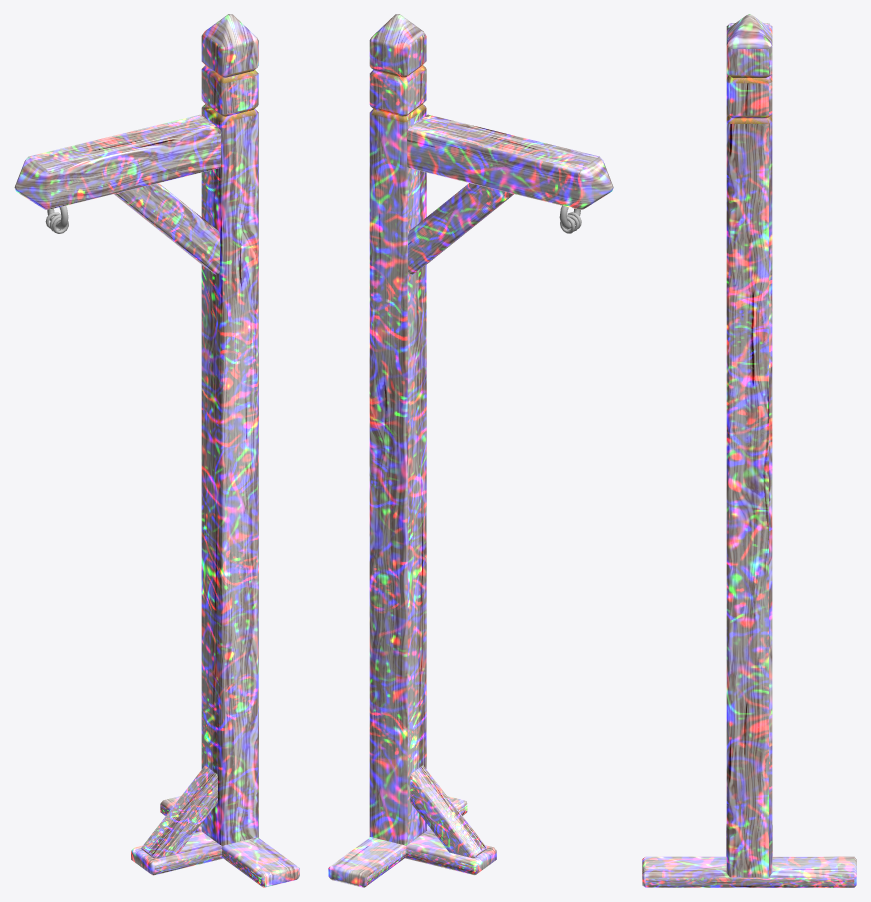
The model's file is hanging_post_SM.fbx.
3 renders of one model, left to right at view 1: azimuth 30°, elevation 25°; view 2: azimuth 150°, elevation 25°; view 3: azimuth 270°, elevation 25°, orthographic. The views are drawn at different scales.
Visible parts, largest first — view 1: hanging_post_SM_LOD0; view 2: hanging_post_SM_LOD0; view 3: hanging_post_SM_LOD0.
Boxes of the visible parts, bbox=[...] form: hanging_post_SM_LOD0: bbox=[14, 14, 299, 887]; hanging_post_SM_LOD0: bbox=[328, 14, 613, 887]; hanging_post_SM_LOD0: bbox=[642, 14, 856, 887].
Bounding box in the file's own units: 130 × 99.47 × 442.
Materials: 3 (2 with a texture image).
